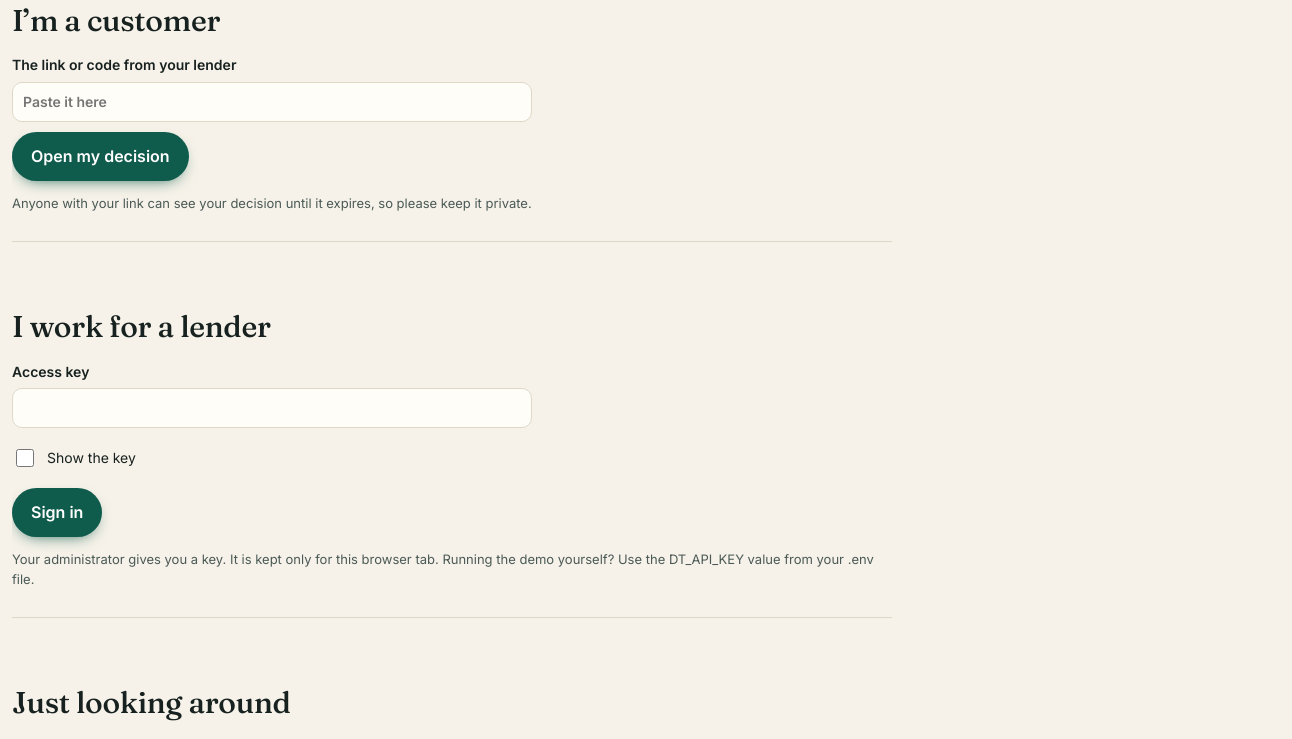
Test: things the independent review found › a mistyped key does not sign out someone who is already signed in
(page scrolled)
Type "dtk_typo" into the password field labelled "Access key" at (272, 408), box [12,388,532,428]
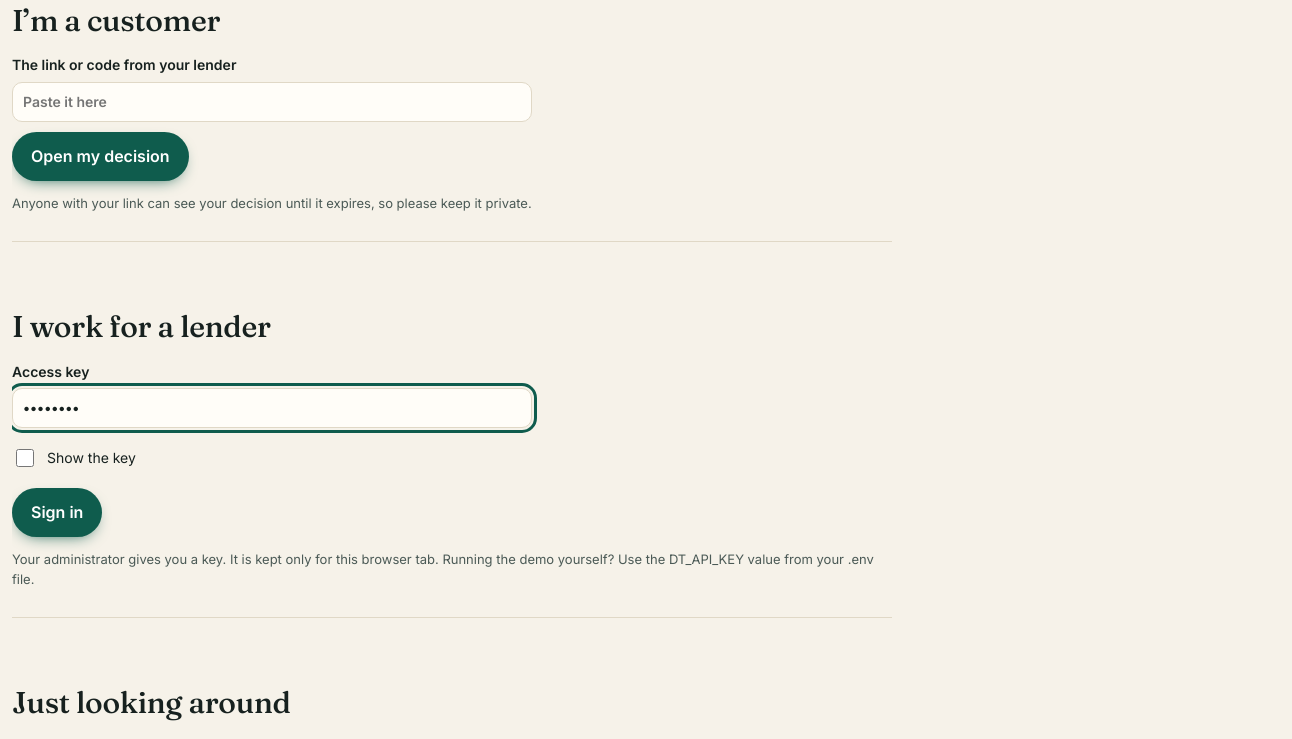
Click the button "Sign in" at (57, 513), box [12,488,102,537]
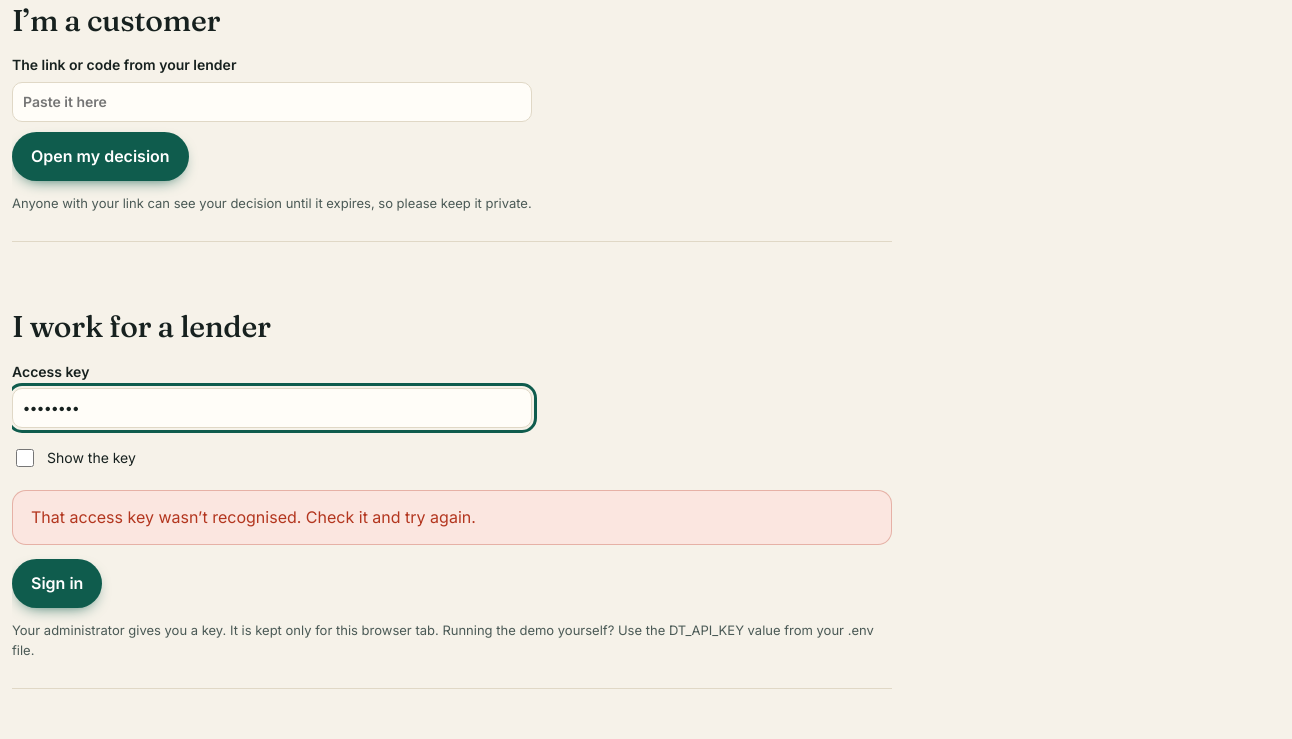
Expected: the text "That access key wasn’t recognised. Check it and try again." is shown, [12,490,892,545]
